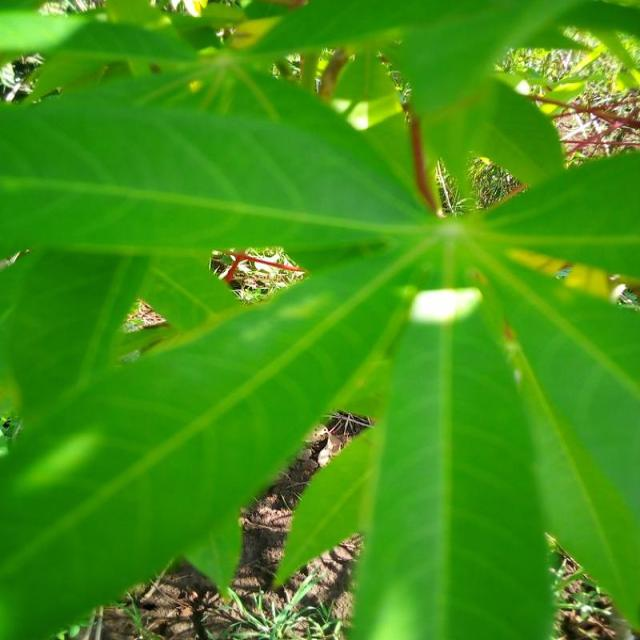cassava leaf: (0, 2, 638, 637), (347, 280, 558, 638)
